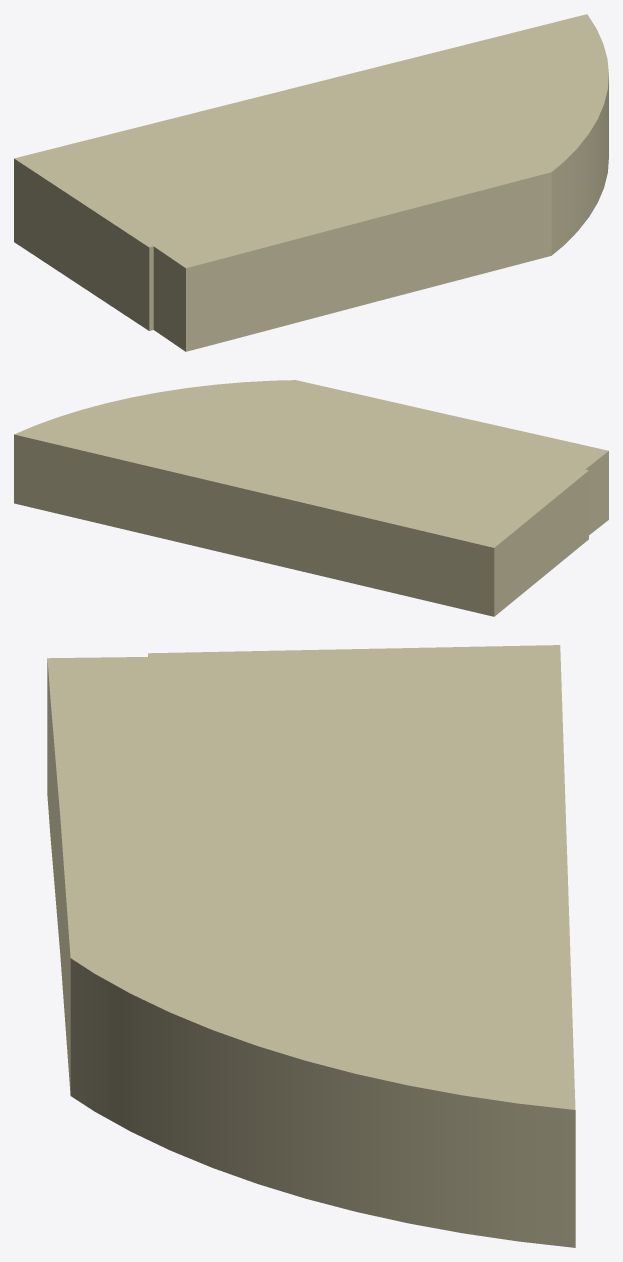
Rendered from SM_WhiteModel_6.FBX.
The picture shows the model from 3 angles, top to bottom: view 1: azimuth 30°, elevation 25°; view 2: azimuth 150°, elevation 25°; view 3: azimuth 270°, elevation 25°; orthographic projection. The views are drawn at different scales.
Visible parts, largest first — view 1: SM_WhiteModel_6; view 2: SM_WhiteModel_6; view 3: SM_WhiteModel_6.
Part boxes in pixels (x1,y1,x2,y2): SM_WhiteModel_6: [14, 14, 608, 351]; SM_WhiteModel_6: [14, 380, 608, 616]; SM_WhiteModel_6: [47, 645, 575, 1247].
Size of the model in its own units: 16271 by 7808 by 2250.
